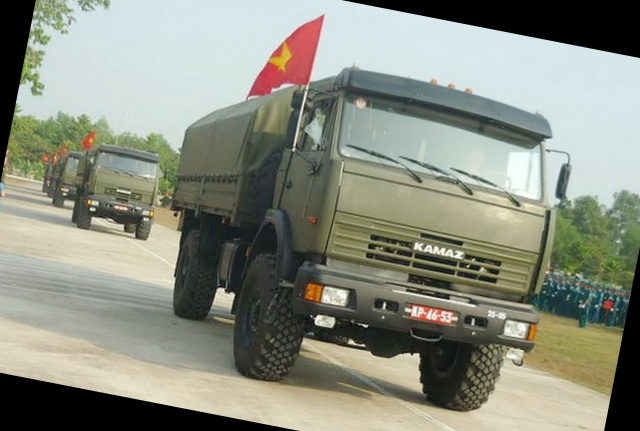plate: (406, 297, 457, 329)
